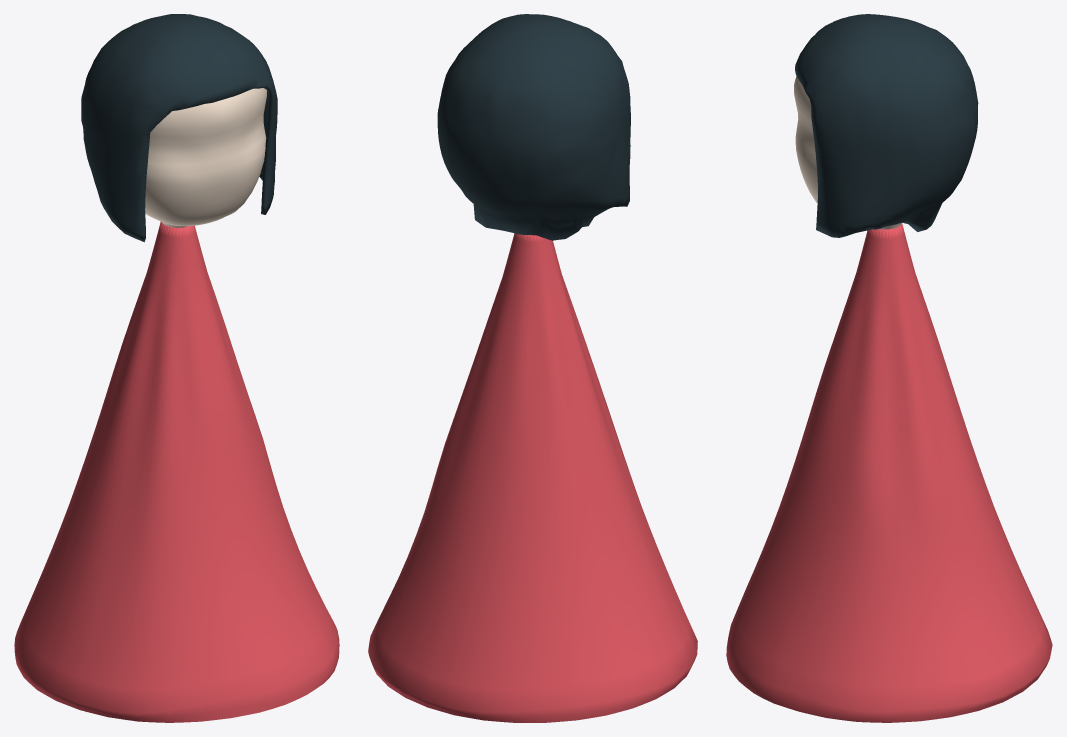
The model's file is Mid.fbx.
3 views of the same model, side by side, from view 1: azimuth 30°, elevation 25°; view 2: azimuth 150°, elevation 25°; view 3: azimuth 270°, elevation 25° (orthographic).
Parts seen in each view (by area): view 1: Cone, hairrrr, Sphere; view 2: Cone, hairrrr; view 3: Cone, hairrrr, Sphere.
Boxes of the visible parts, left/top/right/bottom form: Cone: left=14, top=221, right=339, bottom=722; hairrrr: left=81, top=14, right=277, bottom=242; Sphere: left=145, top=88, right=266, bottom=227; Cone: left=368, top=233, right=697, bottom=722; hairrrr: left=437, top=14, right=630, bottom=240; Cone: left=726, top=223, right=1052, bottom=722; hairrrr: left=795, top=14, right=978, bottom=237; Sphere: left=794, top=76, right=901, bottom=229.
Bounding box in the file's own units: 322 × 681 × 319.
